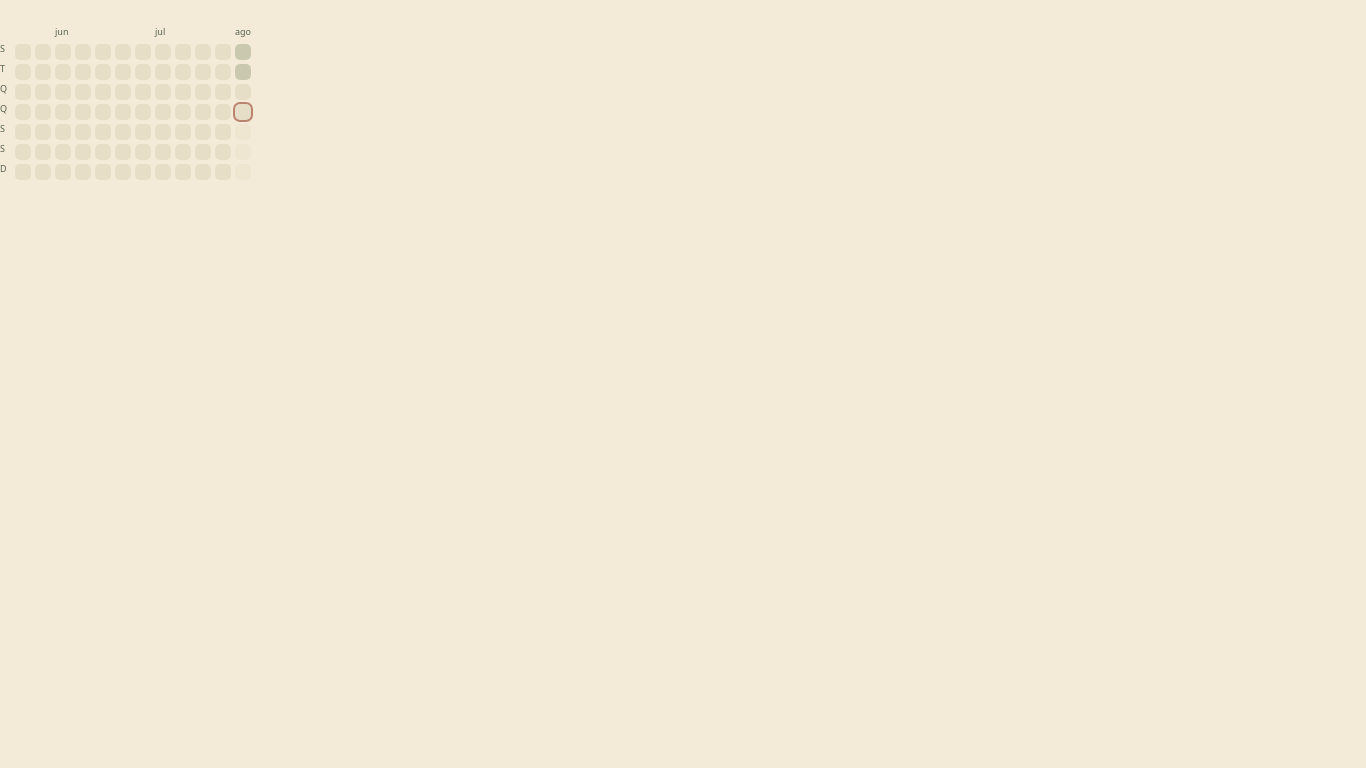
Test: MapaCalor — tempo total do dia por fuso horário › mantém práticas de dias distintos separadas em UTC
Click the button named "03 de ago. — 1 prática" at point(243, 52), box [235, 44, 251, 60]
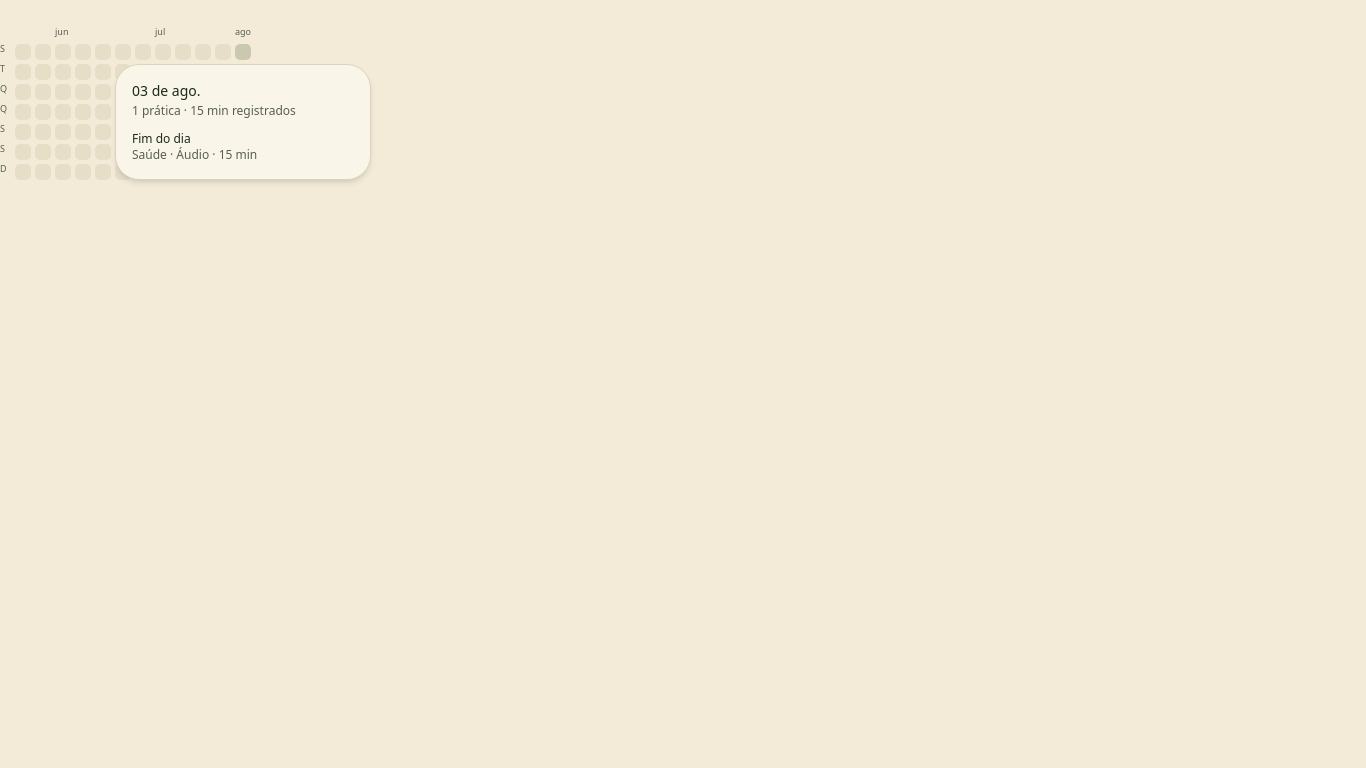
Check: the text "1 prática · 15 min registrados" is shown, box [132, 102, 296, 119]
Check: the number of list items is 1, box [132, 130, 257, 163]
Press Escape
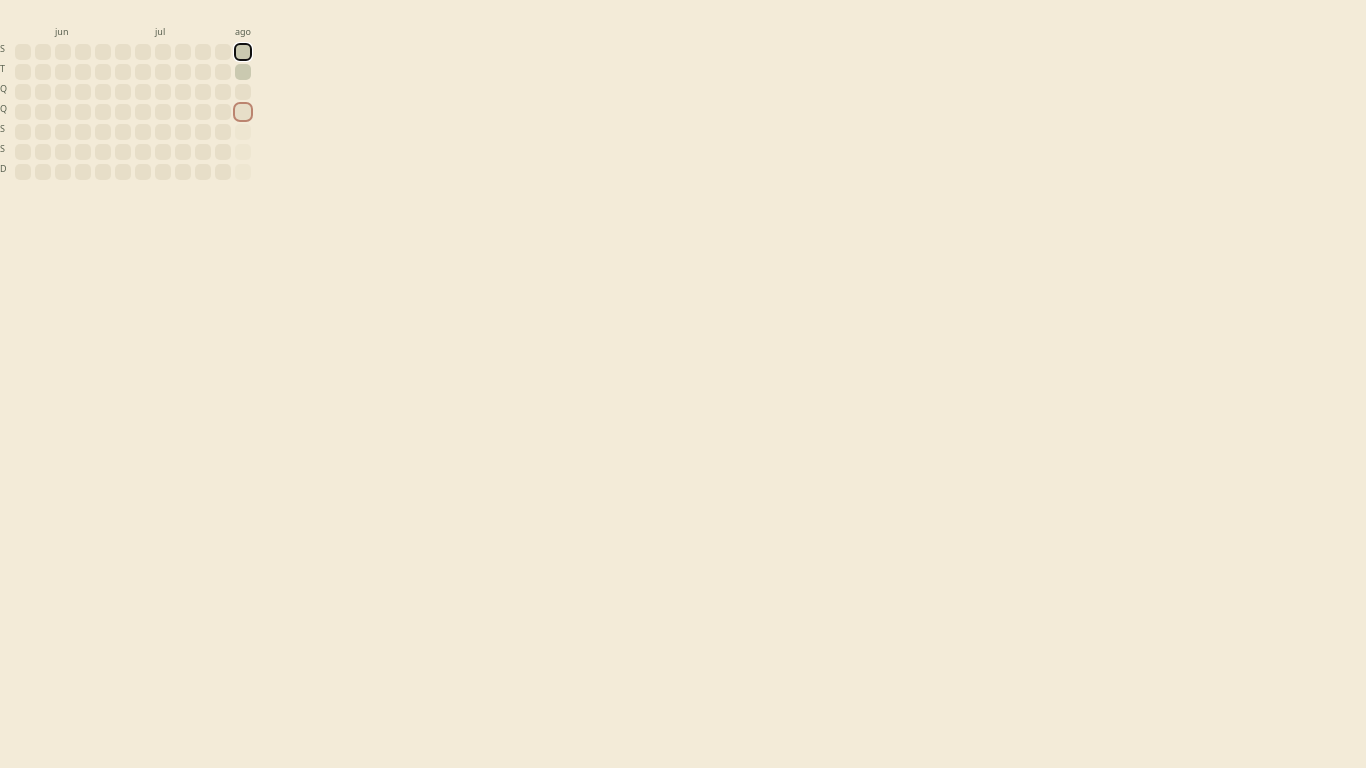
Click the button named "04 de ago. — 1 prática" at point(243, 72), box [235, 64, 251, 80]
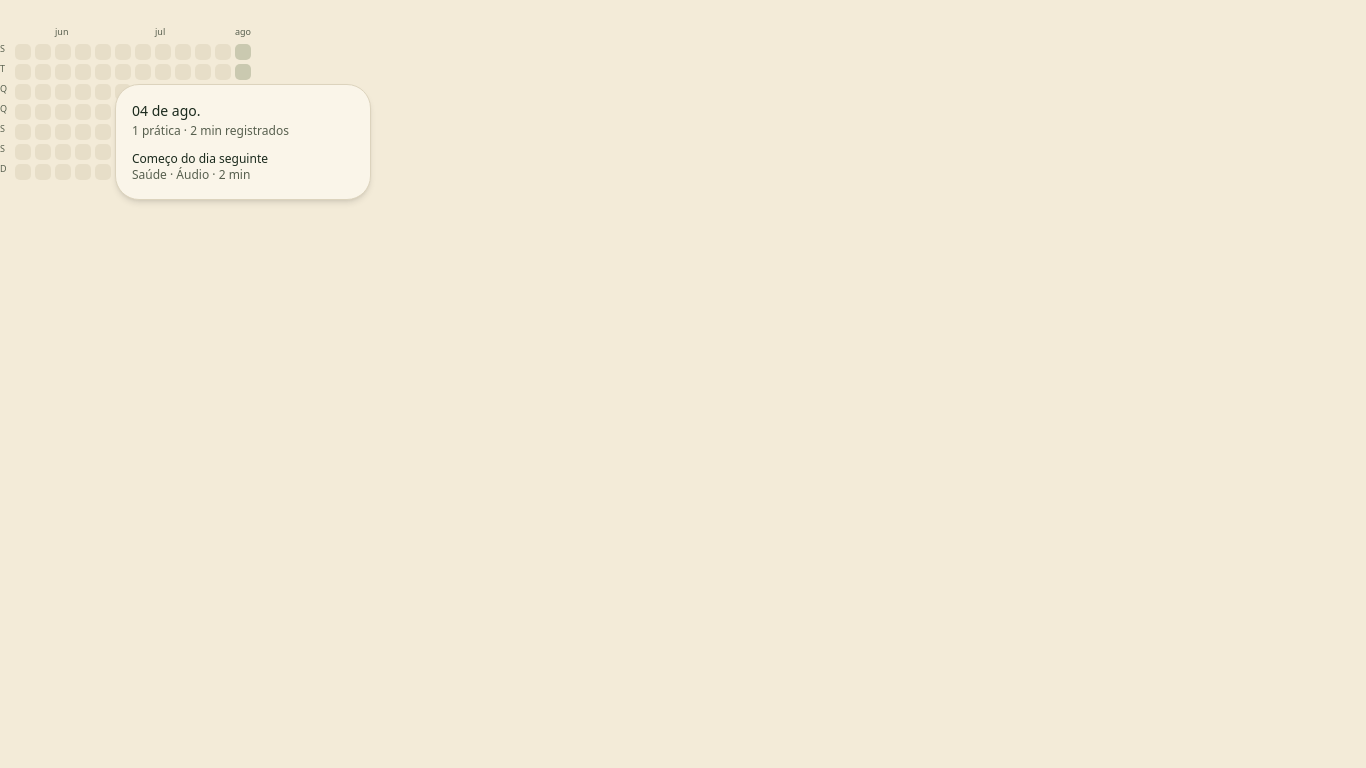
Check: the text "1 prática · 2 min registrados" is shown, box [132, 122, 289, 139]
Check: the text "Começo do dia seguinte" is shown, box [132, 150, 268, 167]
